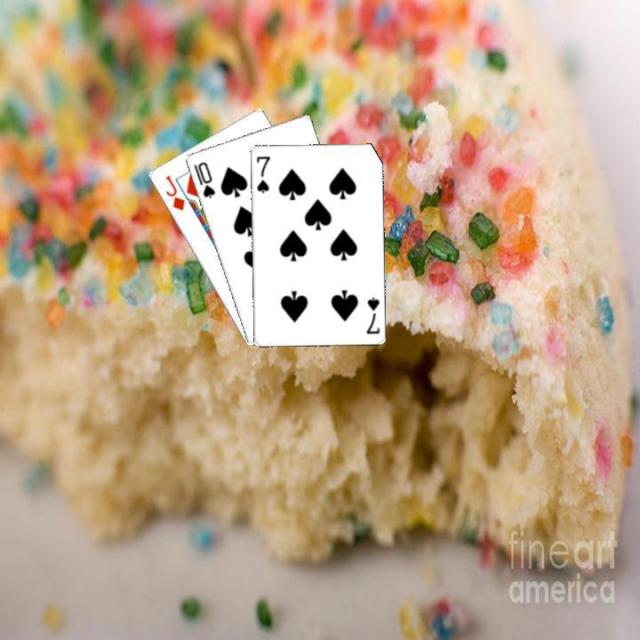10S: (189, 157, 217, 200)
7S: (362, 293, 381, 335), (253, 152, 271, 195)
JD: (161, 172, 187, 212)
